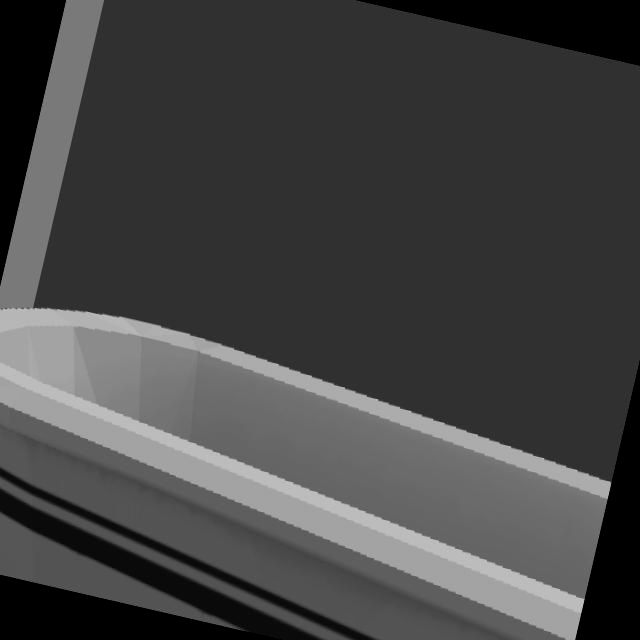bathtube: (0, 307, 611, 640)
